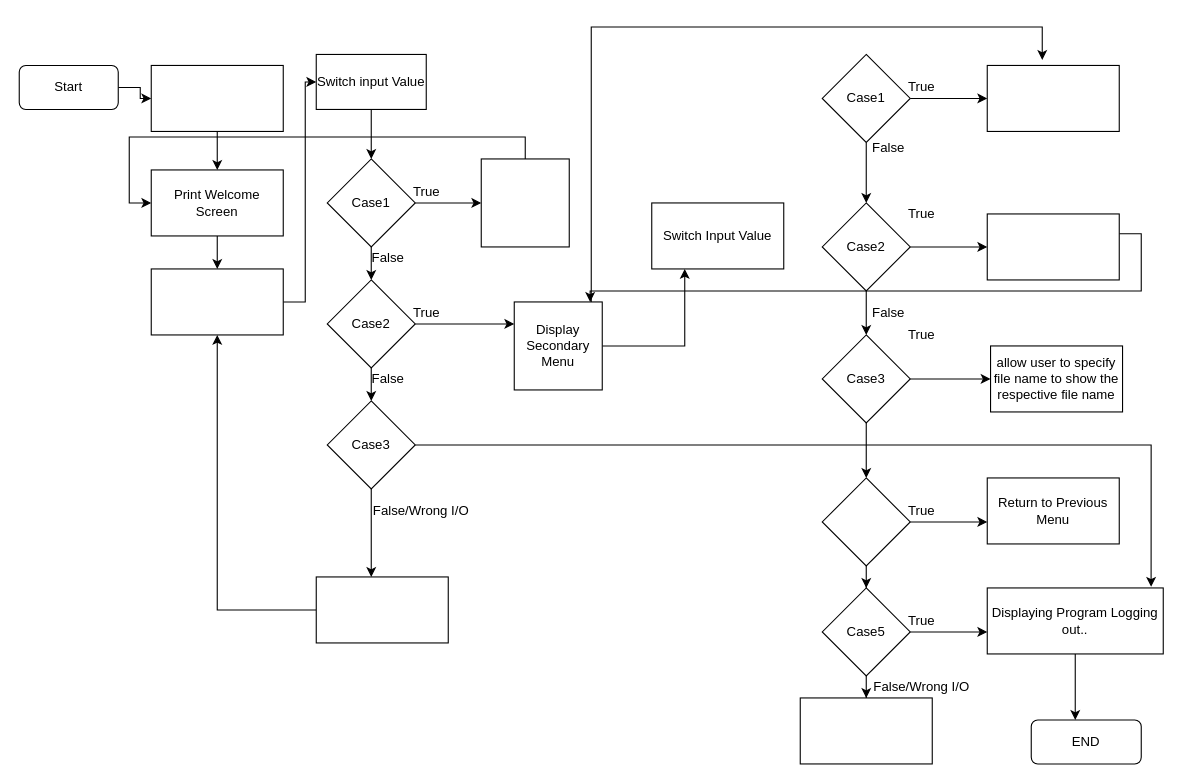
This 1183x783 diagram has some shape labels left out. Each missing label, with the centre of its shape:
Allow User to add Files: point (1052, 97)
Allow User to specify file name and select which fil to delete: point (1052, 246)
Case4: point (865, 521)
Create JavaFiles Folder: point (216, 97)
Default: point (381, 609)
Default statement: point (865, 730)
Displaying Initial Menu: point (216, 301)
Retrieve all files in Java Files folder in ascending order: point (524, 202)
